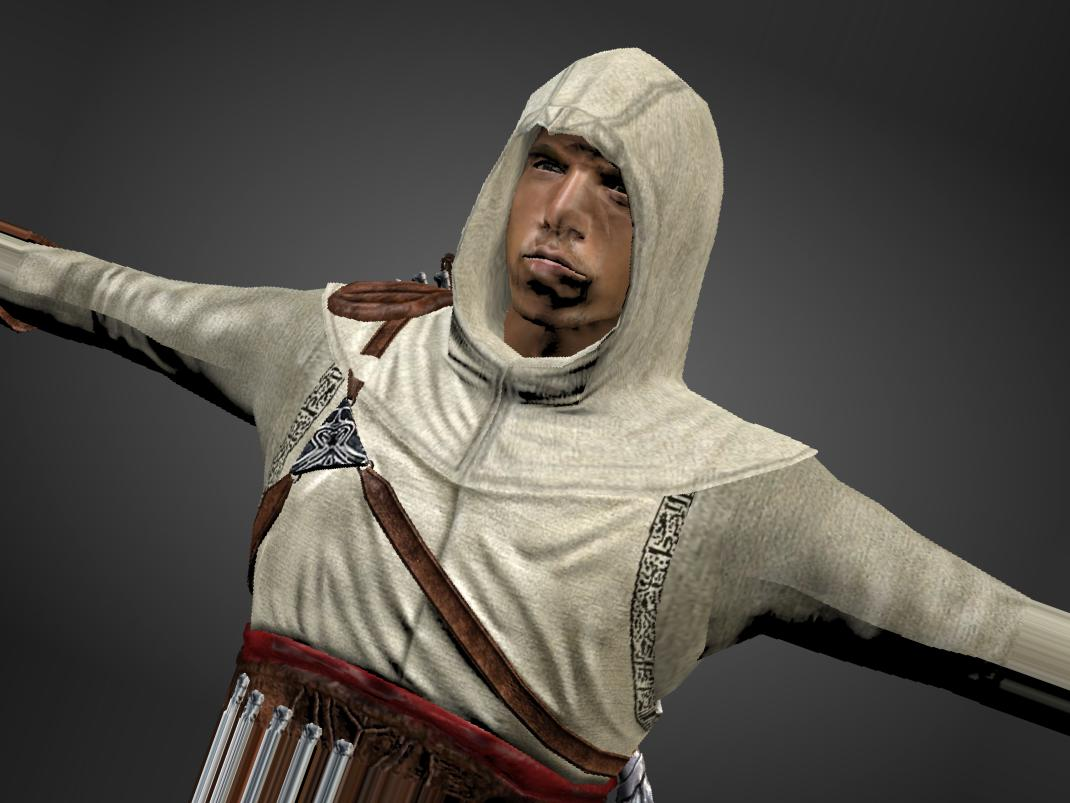clip: (342, 342, 396, 388)
